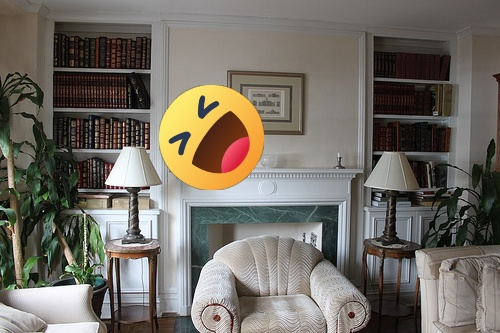haha: (159, 85, 264, 190)
